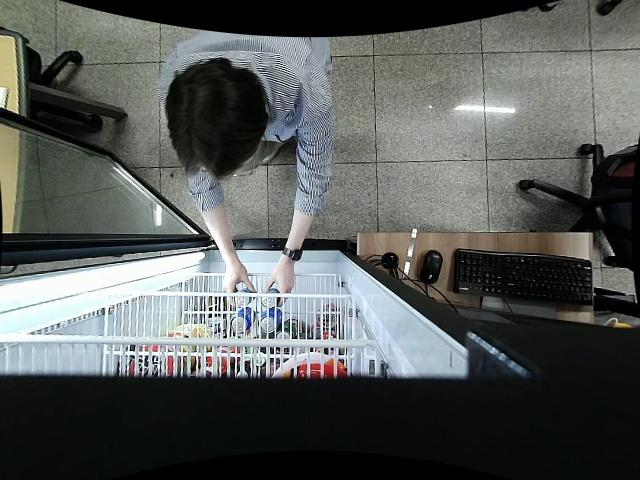00_hand: (220, 271, 255, 305), (266, 265, 294, 307)
